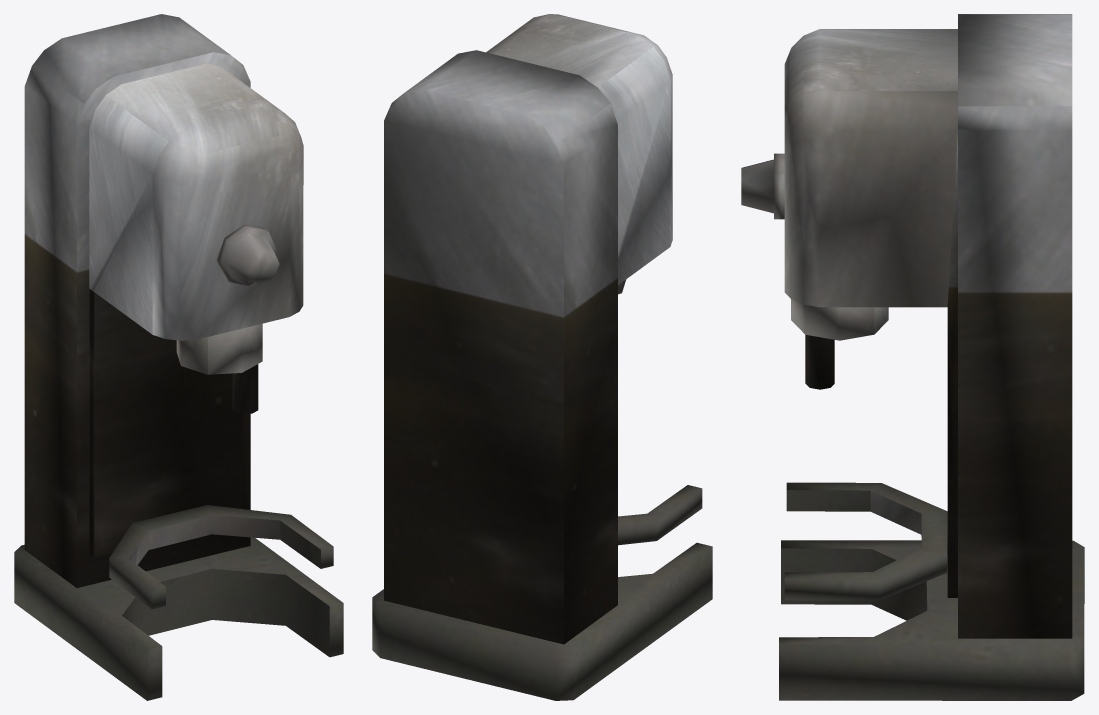
The model's file is Mixer_Galley.obj.
The picture shows the model from 3 angles, left to right: view 1: azimuth 30°, elevation 25°; view 2: azimuth 150°, elevation 25°; view 3: azimuth 270°, elevation 25°; orthographic projection. The views are drawn at different scales.
Visible parts, largest first — view 1: Mixer_Galley.obj; view 2: Mixer_Galley.obj; view 3: Mixer_Galley.obj.
Part boxes in pixels (left/top/right/bottom): Mixer_Galley.obj: left=14, top=14, right=343, bottom=700; Mixer_Galley.obj: left=372, top=14, right=712, bottom=700; Mixer_Galley.obj: left=741, top=14, right=1084, bottom=700.
Bounding box in the file's own units: 4.59 × 12.39 × 6.35.
